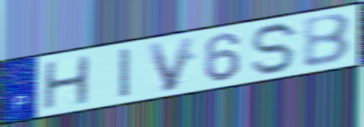6: (202, 31, 243, 83)
B: (301, 11, 353, 70)
H: (40, 53, 92, 112)
I: (117, 46, 133, 101)
S: (249, 20, 302, 77)
V: (145, 34, 198, 94)
